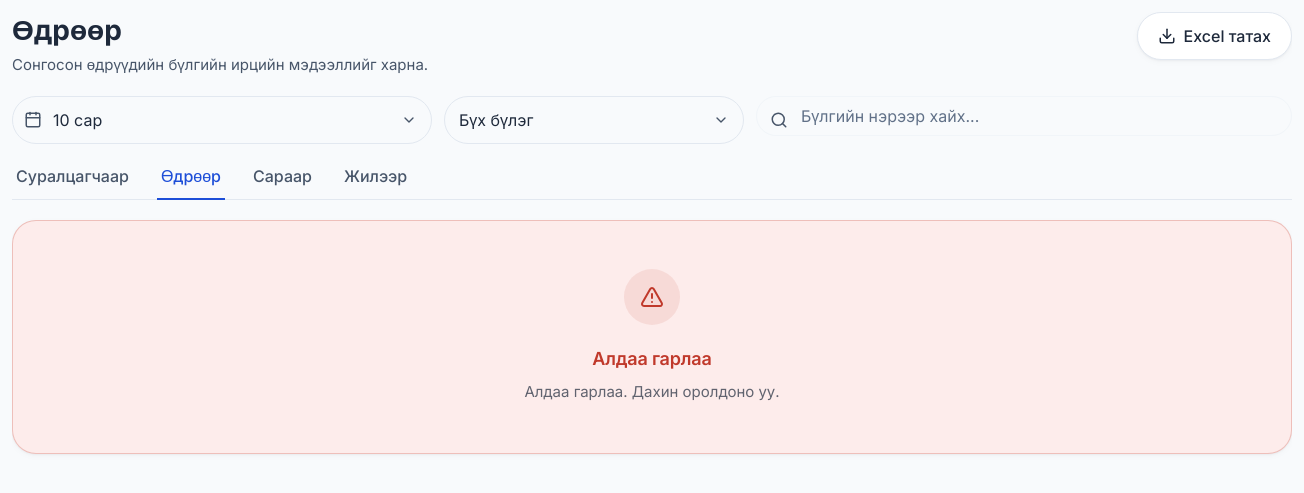
Жилээр › merges safe API windows into one September–June grid
Click the tab "Жилээр" at (376, 182), box [340,164,411,200]
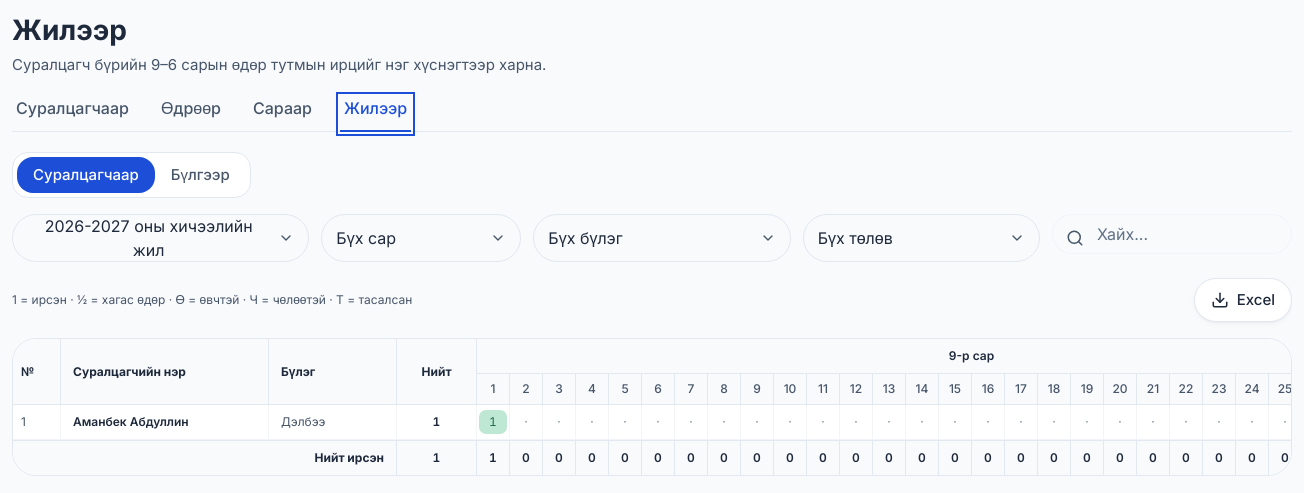
Expected: the heading "Жилээр" is shown, [12,13,127,47]
Expected: the text "Аманбек Абдуллин" is shown, [61,405,269,440]
Expected: the column heading "9-р сар" is shown, [477,339,1292,374]
